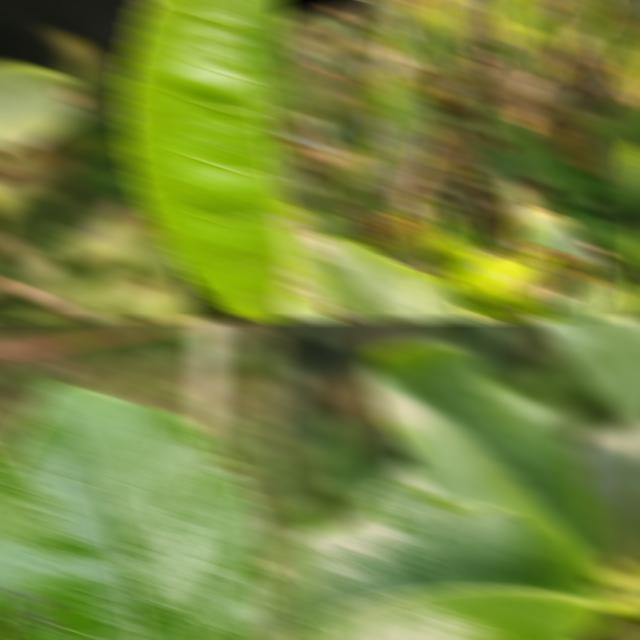Leaf: (0, 383, 273, 640), (362, 340, 604, 581), (118, 0, 286, 322), (276, 483, 610, 640), (505, 182, 635, 322), (304, 231, 476, 322), (445, 243, 602, 322), (358, 89, 438, 244), (530, 318, 640, 420), (358, 0, 423, 141), (487, 0, 551, 130), (276, 194, 338, 322), (0, 59, 82, 149), (540, 0, 614, 81), (587, 0, 640, 105), (317, 146, 374, 241), (392, 0, 447, 74), (276, 72, 364, 117), (427, 0, 483, 68), (429, 207, 480, 279), (475, 143, 530, 203), (558, 209, 632, 253), (363, 226, 428, 261), (276, 143, 298, 198)
